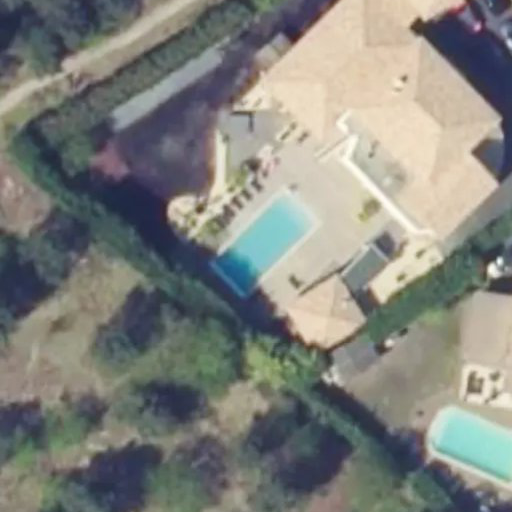pool: (208, 177, 322, 294), (428, 400, 512, 485)
